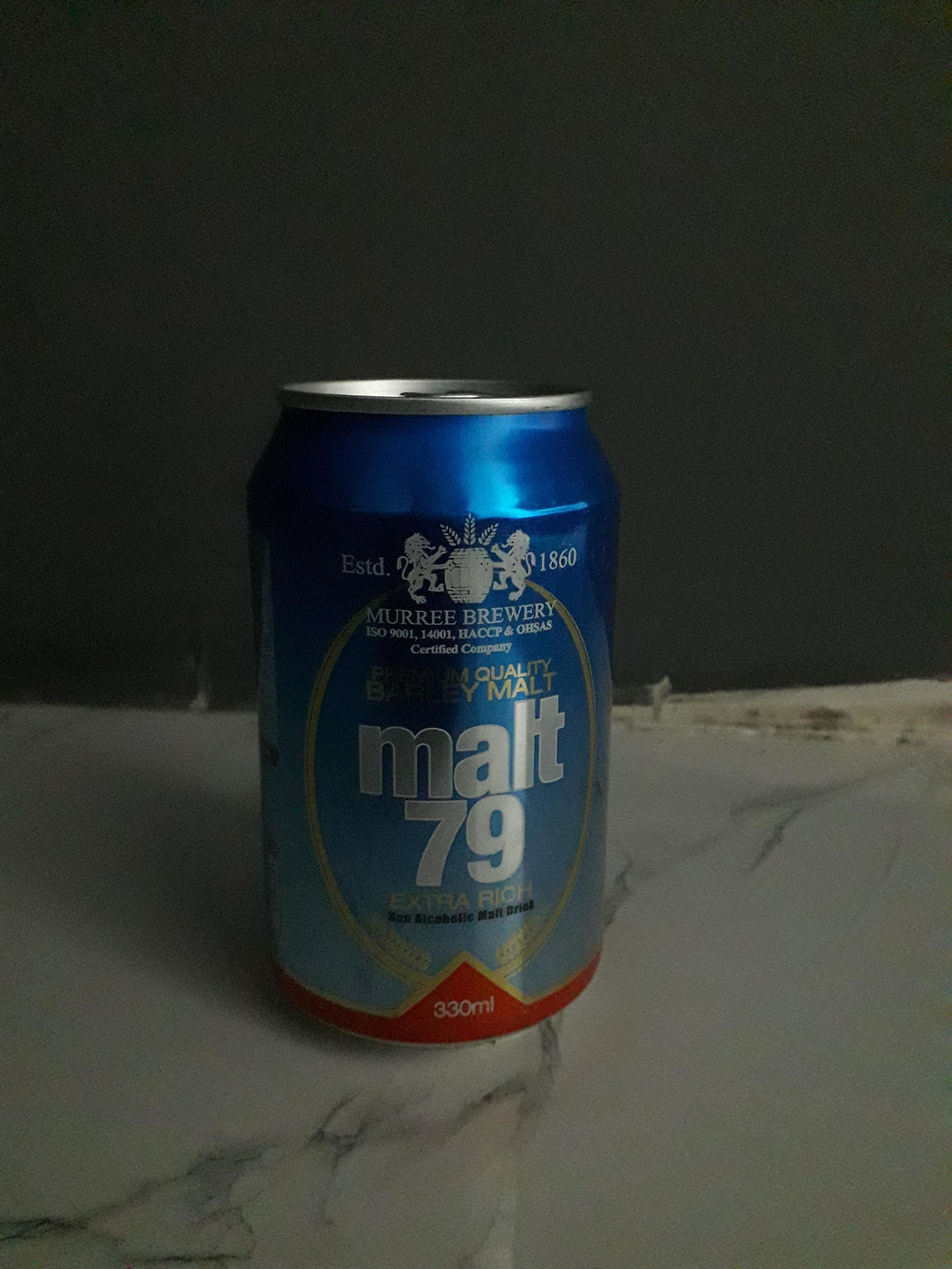tin can: (237, 371, 617, 1054)
